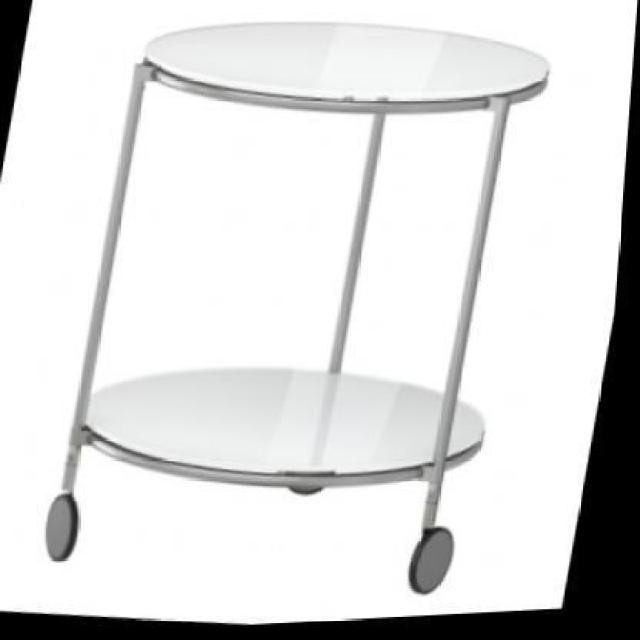tables: (43, 18, 551, 594)
